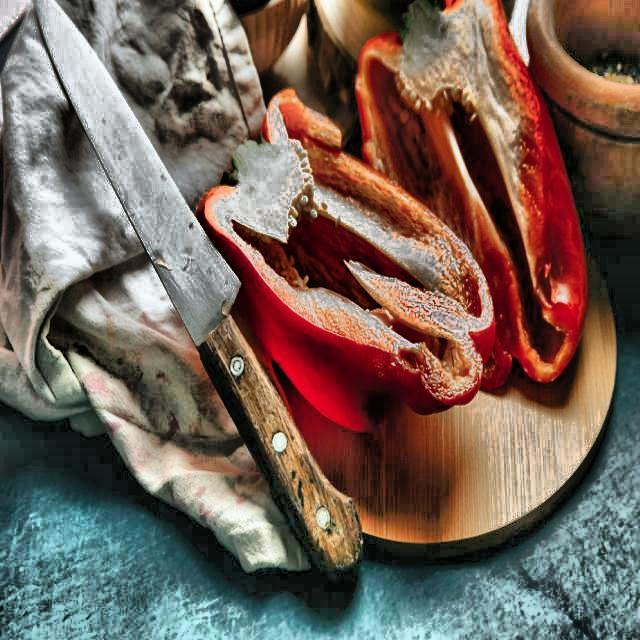knife: (34, 0, 363, 592)
